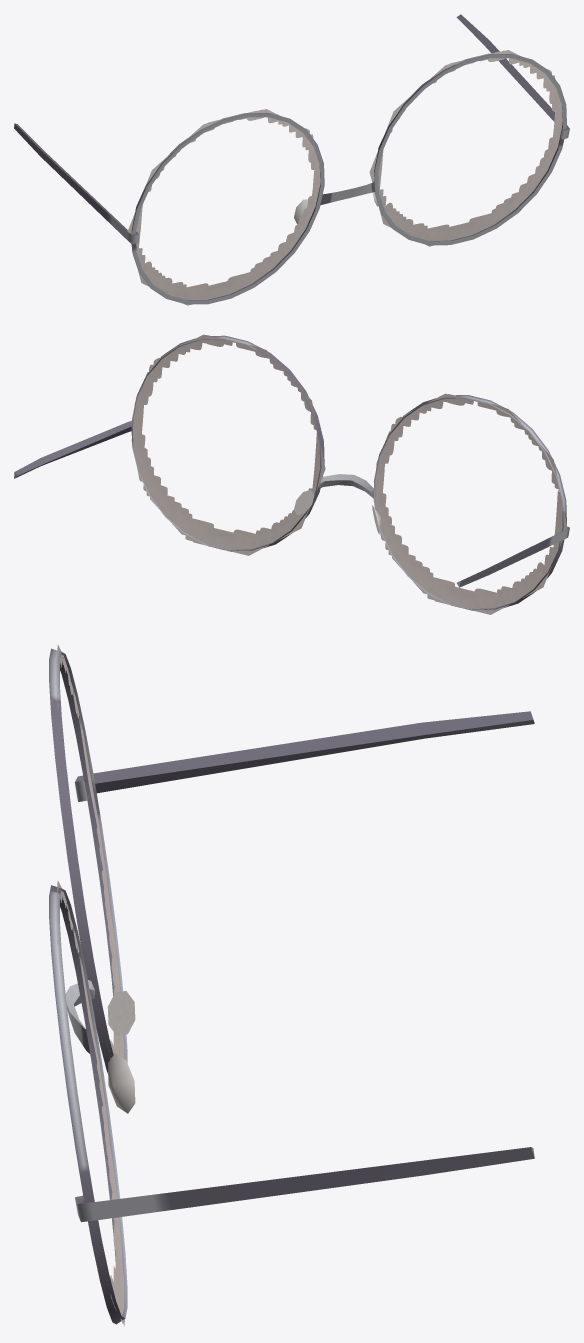
File: IkunoDictusGlassesGround.fbx
3 renders of one model, top to bottom at view 1: azimuth 30°, elevation 25°; view 2: azimuth 150°, elevation 25°; view 3: azimuth 270°, elevation 25°, orthographic. The views are drawn at different scales.
Parts seen in each view (by area): view 1: M_Body.001; view 2: M_Body.001; view 3: M_Body.001.
Part boxes in pixels (bbox=[...]): M_Body.001: bbox=[14, 14, 569, 305]; M_Body.001: bbox=[14, 334, 569, 614]; M_Body.001: bbox=[49, 645, 534, 1326].
Size of the model in its own units: 0.0953 by 0.0401 by 0.0446.
